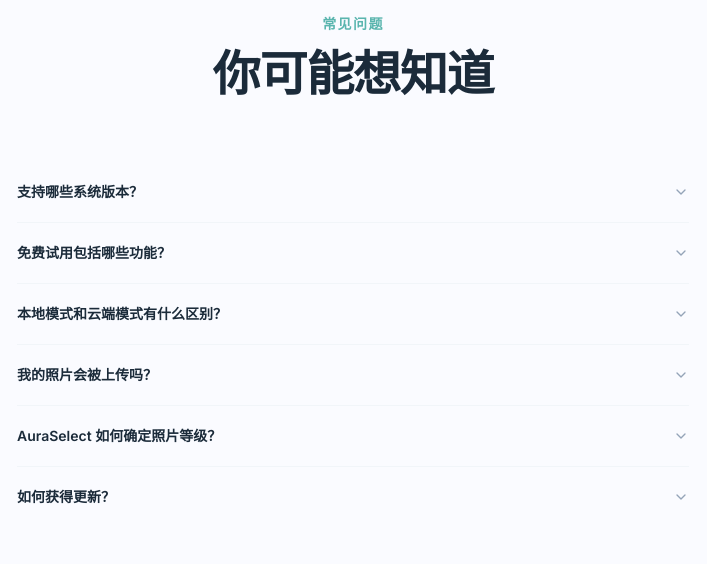
it: FAQ › clicking a question reveals the answer
Step 1. Click the button "支持哪些系统版本？" → (80, 192), box top-left (17, 162), bottom-right (689, 222)
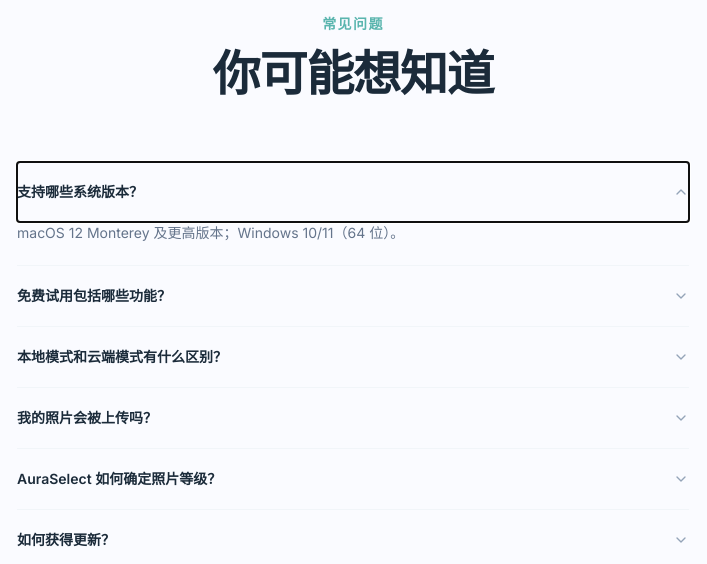
Expected: the text "macOS 12 Monterey 及更高版本；Windows 10/11（64 位）。" is shown, top-left (17, 224), bottom-right (404, 241)
